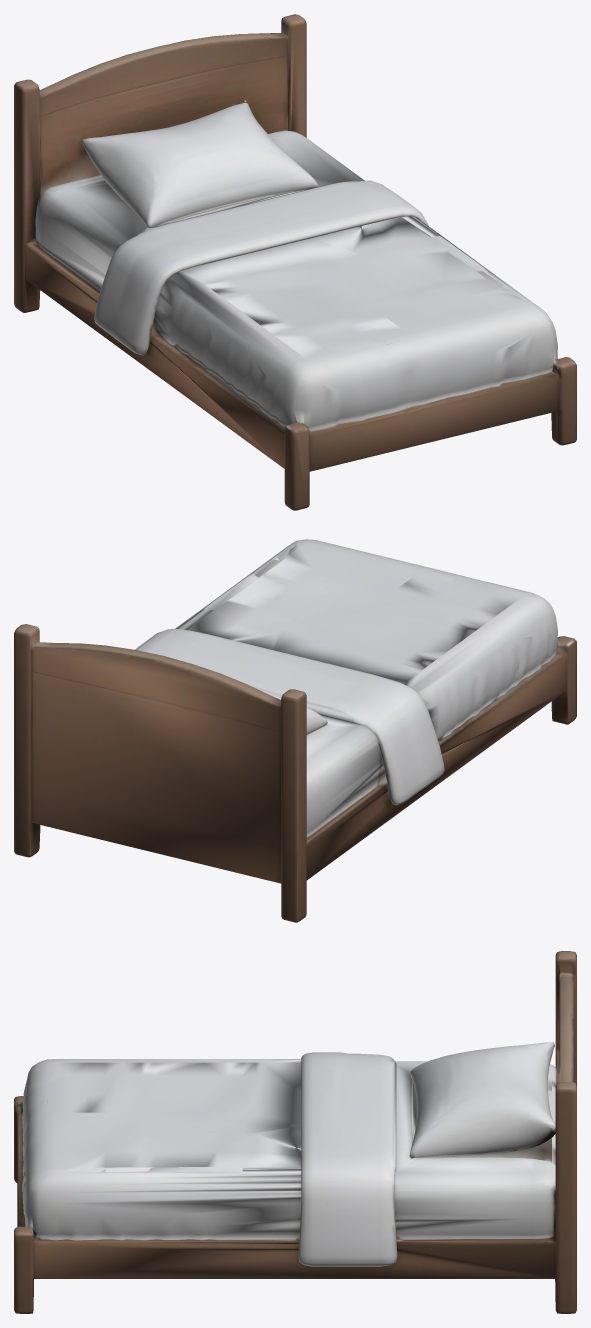
The model's file is single_bed_realistic_style_b83bcfa1_v3.glb.
The picture shows the model from 3 angles, top to bottom: view 1: azimuth 30°, elevation 25°; view 2: azimuth 150°, elevation 25°; view 3: azimuth 270°, elevation 25°; orthographic projection.
Visible parts, largest first — view 1: texture_pbr_20250901; view 2: texture_pbr_20250901; view 3: texture_pbr_20250901.
Boxes of the visible parts, bbox=[...] form: texture_pbr_20250901: bbox=[14, 14, 576, 510]; texture_pbr_20250901: bbox=[14, 539, 576, 922]; texture_pbr_20250901: bbox=[14, 951, 576, 1313].
Bounding box in the file's own units: 1.21 × 0.8516 × 1.9.
1 material, 1 textured.
